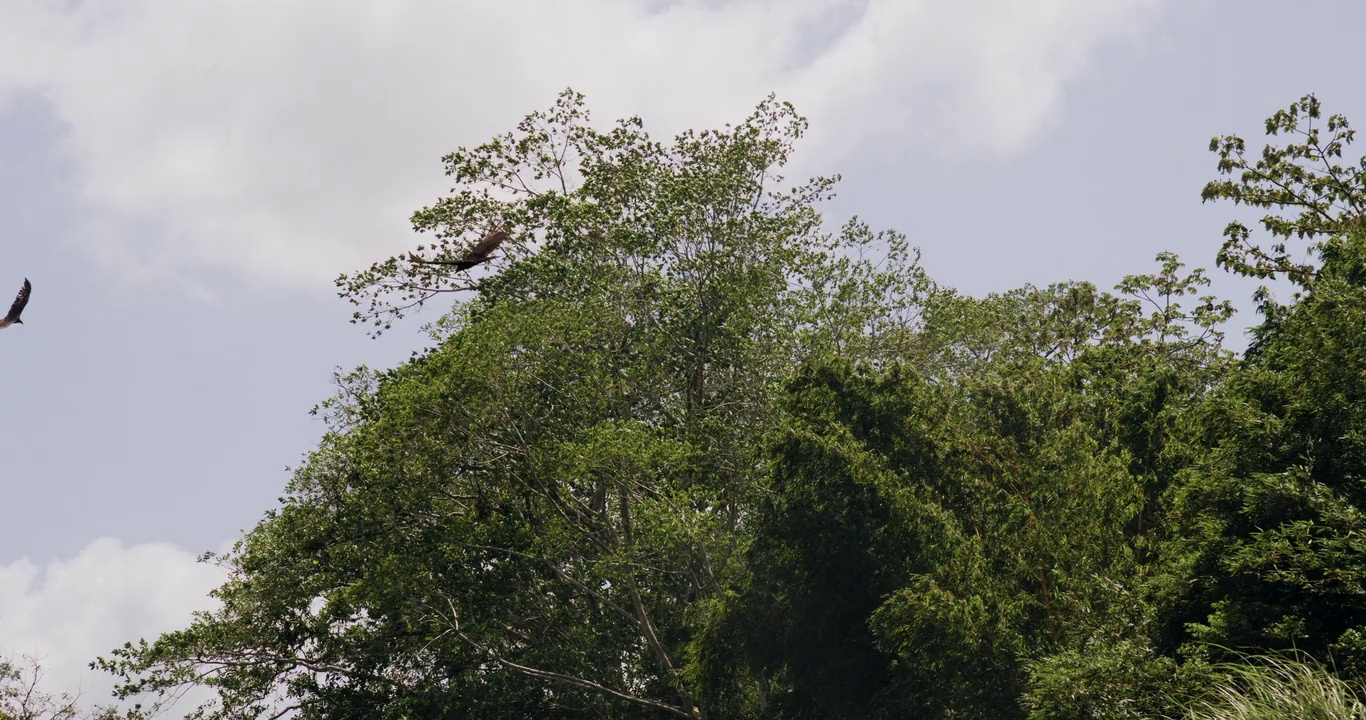bird: (411, 237, 508, 270), (0, 274, 32, 333)
